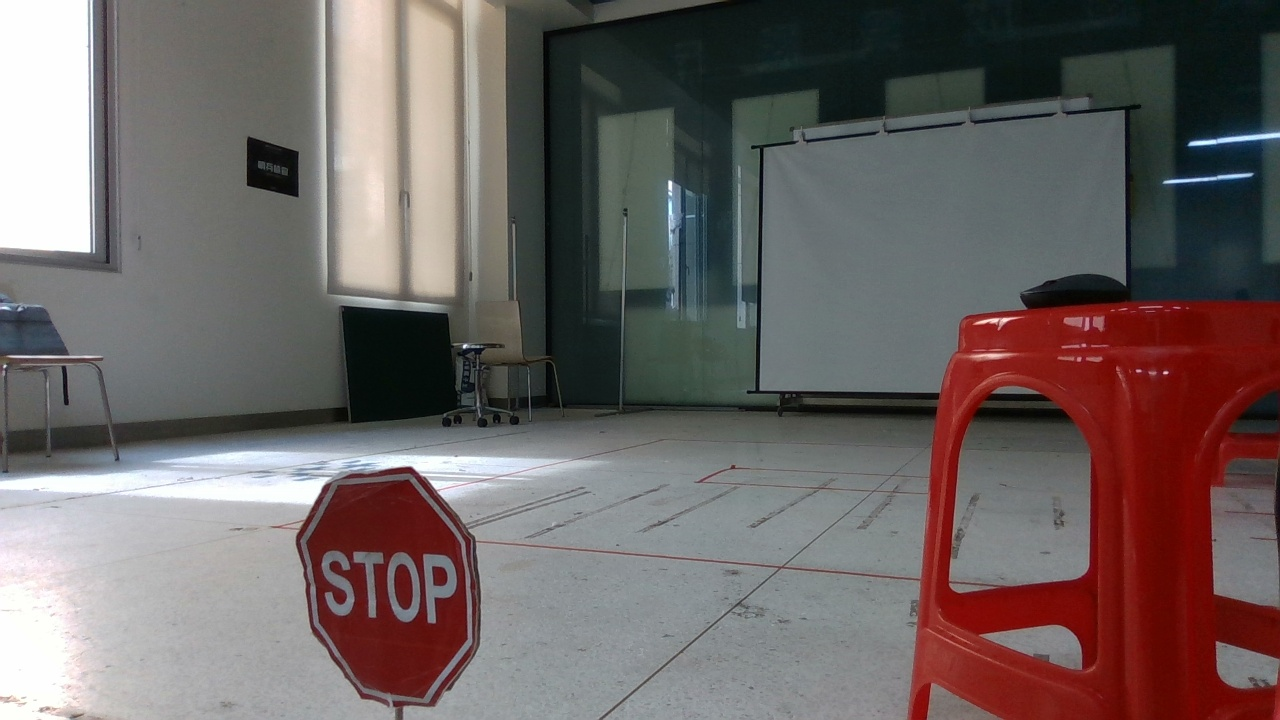stop_sign: (277, 457, 504, 720)
